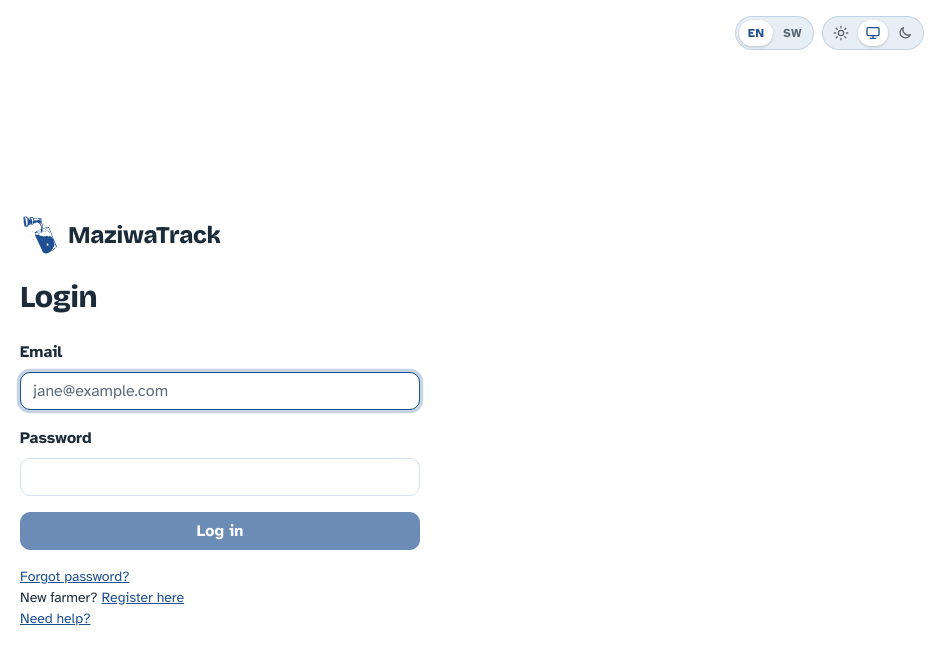
Test: Login › A4: a wrong code shows how many tries are left and stays on the code screen
The width and height of the screenshot is (940, 653).
Type "wanjiku@example.com" into the field labelled "Email".
click(220, 391); type("wanjiku@example.com")  # box [20,372,420,410]
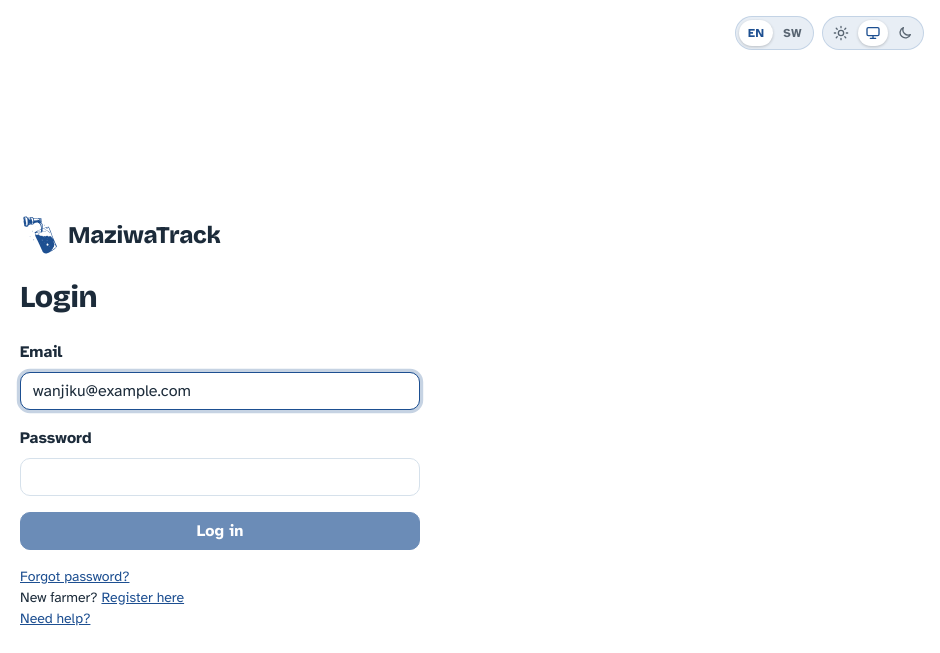
Type "Password123" into the password field labelled "Password".
click(220, 477); type("Password123")  # box [20,458,420,496]
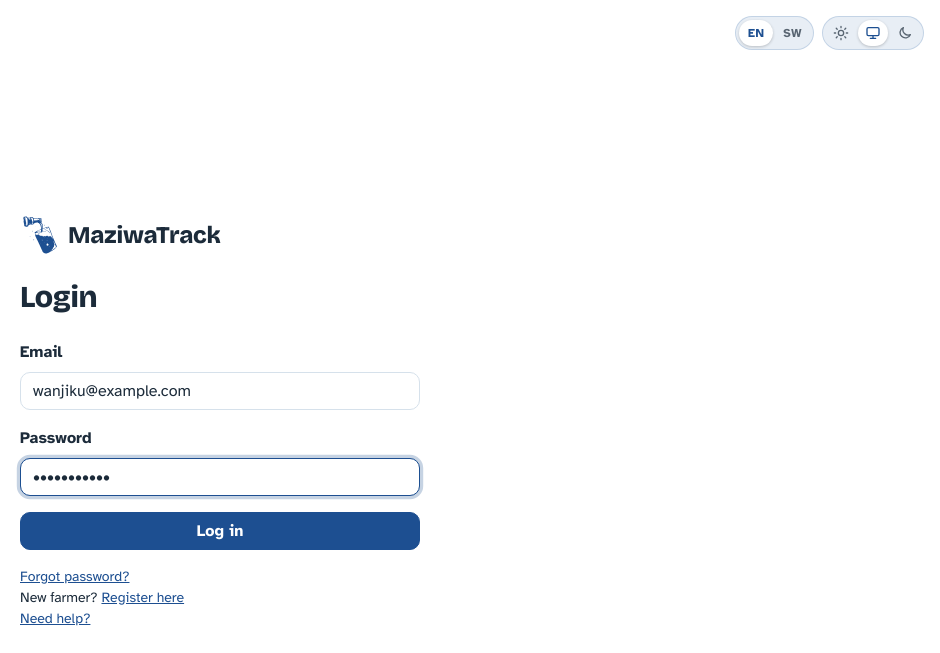
Click the button "Log in".
click(220, 531)  # box [20,512,420,550]
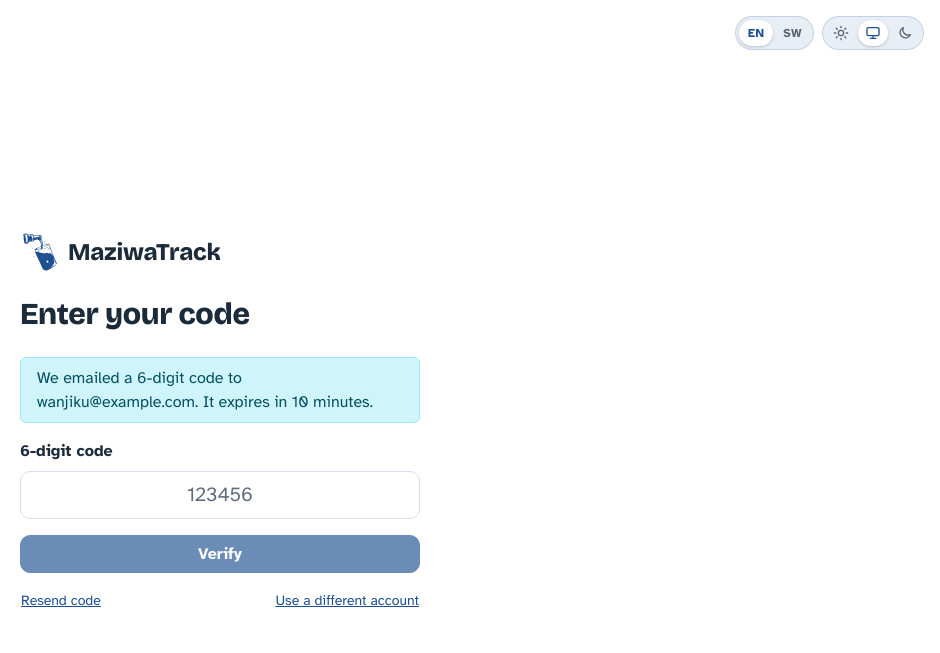
Type "000000" into the field labelled "6-digit code".
click(220, 495); type("000000")  # box [20,471,420,519]
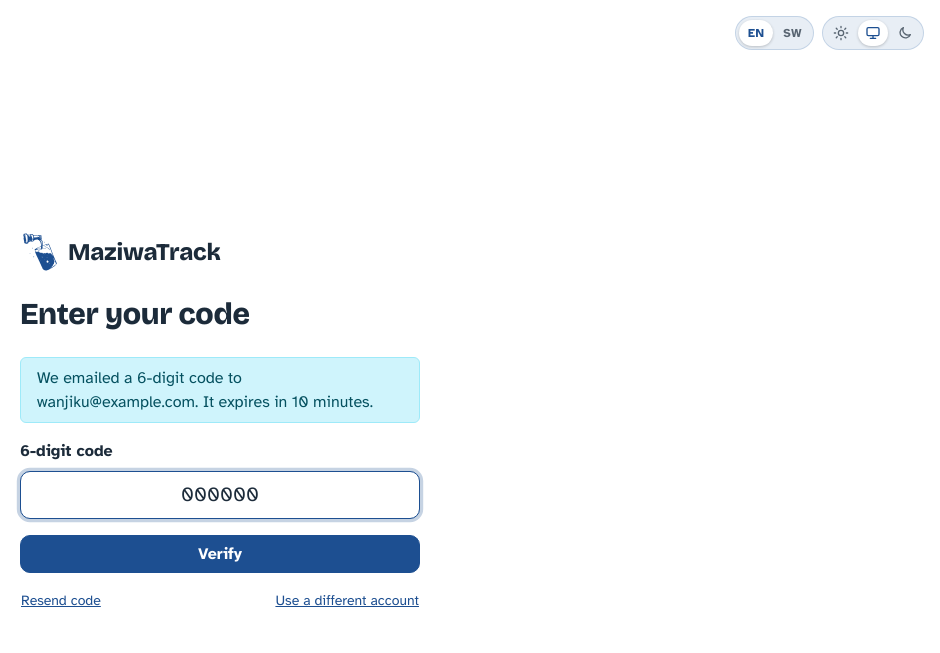
Click the button "Verify".
click(220, 554)  # box [20,535,420,573]
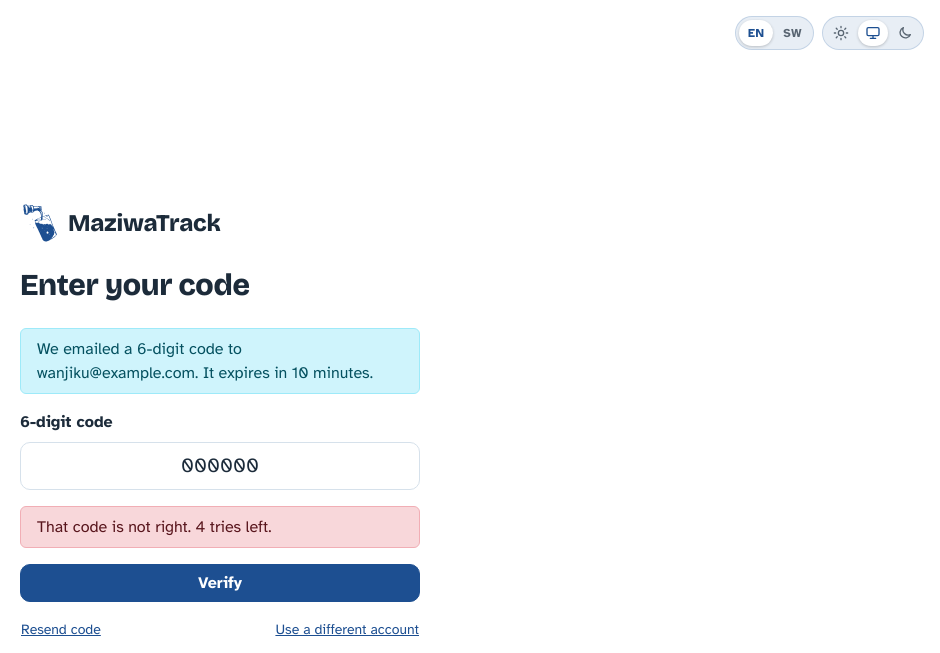
Check: the heading "Enter your code" is shown, box [20,267,250,303]
Check: the text "That code is not right. 4 tries left." is shown, box [20,506,420,548]
